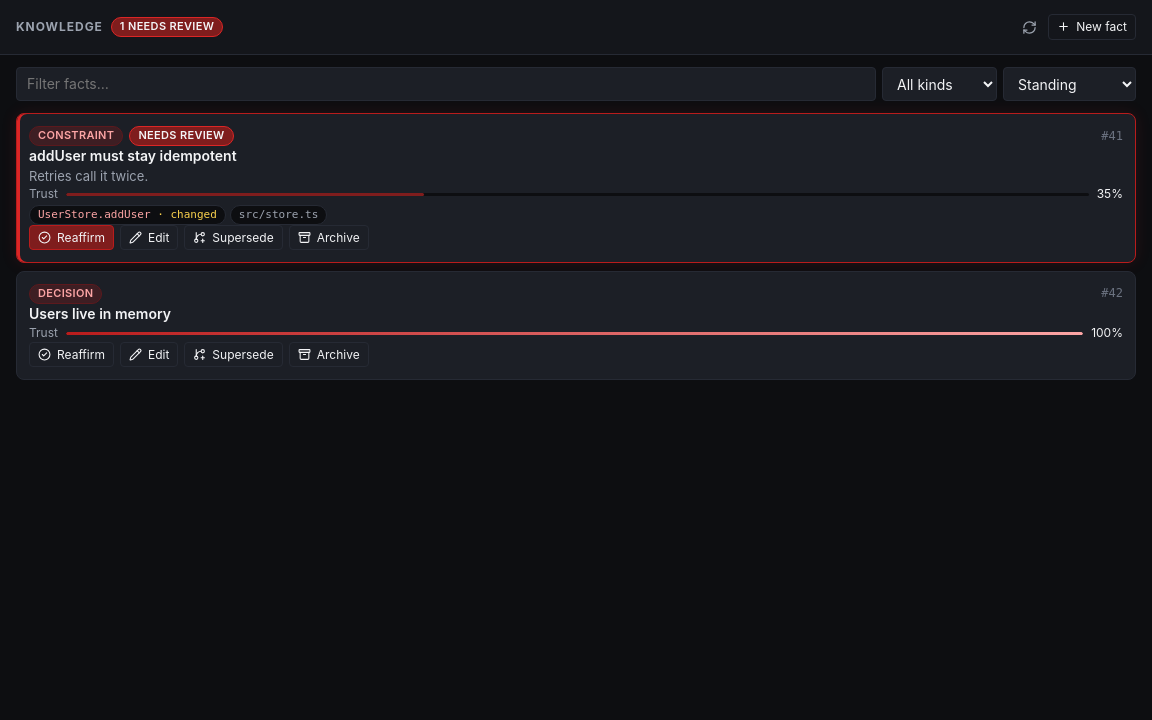
Scenario: KnowledgeBoard › edits a fact in place with a prefilled form
Click the button "Edit" below "Users live in memory".
click(149, 354)  # box [120, 342, 178, 367]
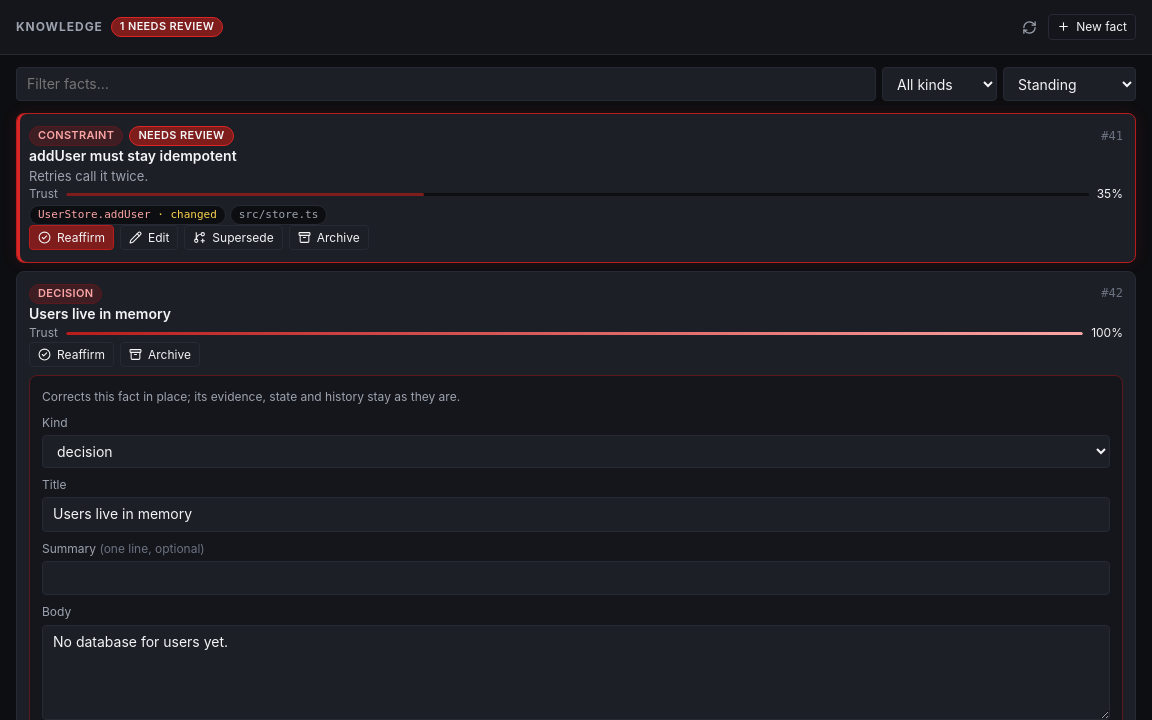
Expected: the dropdown labelled "Kind" shows "decision", [42, 435, 1110, 468]
Expected: the field labelled "Title" holds "Users live in memory"
Expected: the text box labelled "Body" holds "No database for users yet.", [42, 625, 1110, 719]
Replace the text in the field labelled "Title" with "Users live in SQLite" at x=576, y=514, box [42, 497, 1110, 532]
(page scrolled)
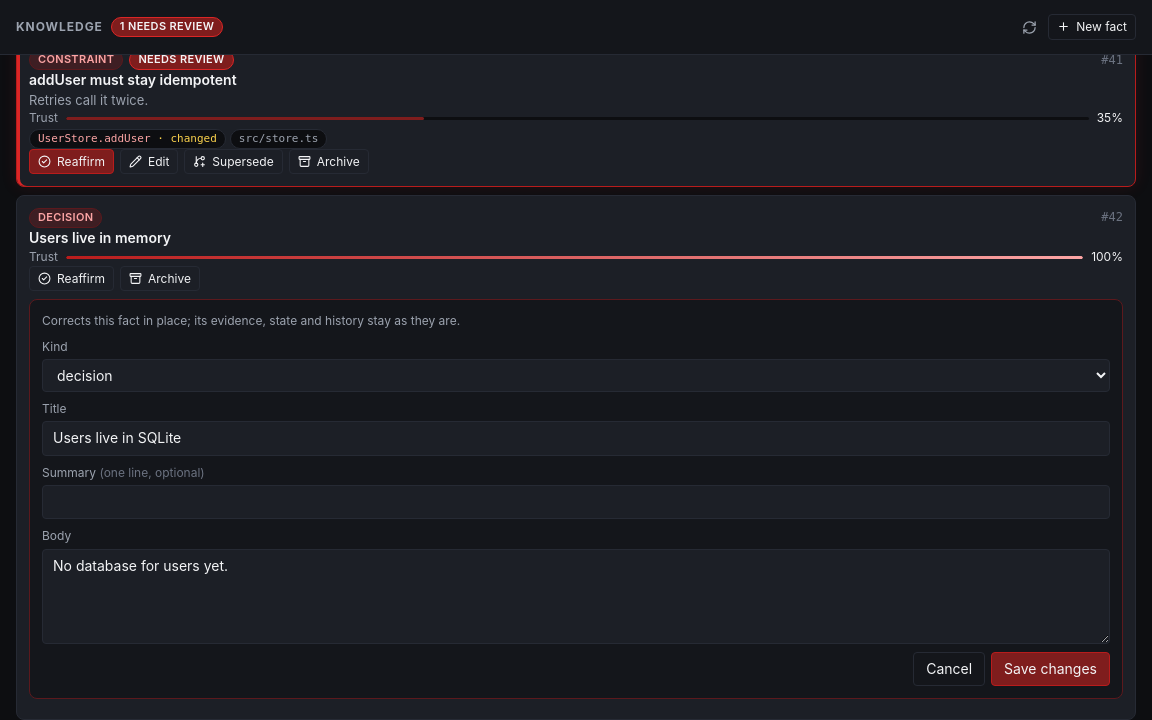
Click the button "Save changes".
click(1051, 669)  # box [991, 652, 1110, 686]
(page scrolled)
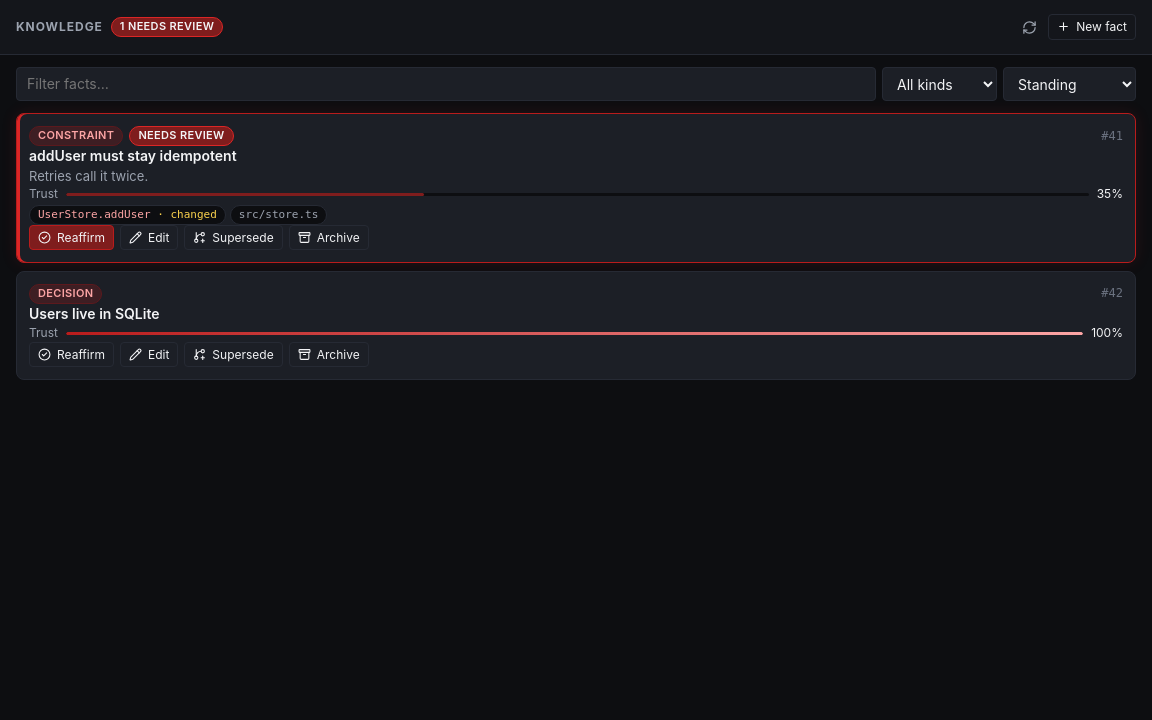
Expected: the button named "Show fact 42 in the graph" is shown, [1101, 285, 1123, 303]
Expected: the form is gone
Expected: the heading "Users live in memory" is gone
